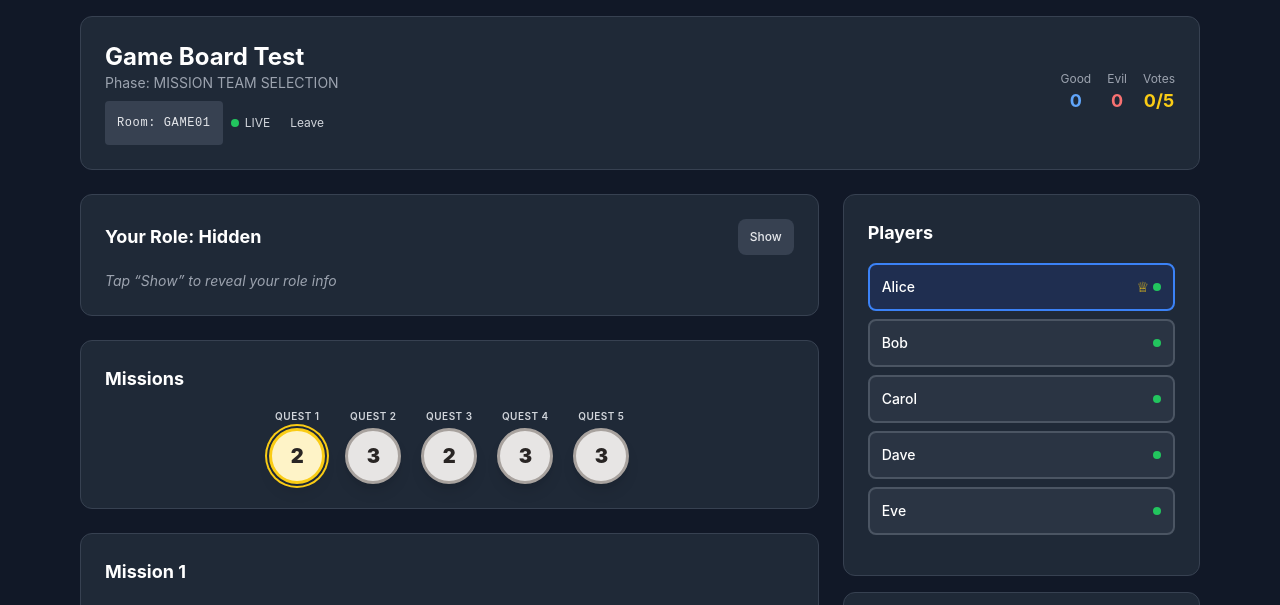
it: GameBoard › role info display › shows evil team styling for evil roles when revealed
The image size is (1280, 605).
Click the button "Show": (766, 237) [738,219,794,255]
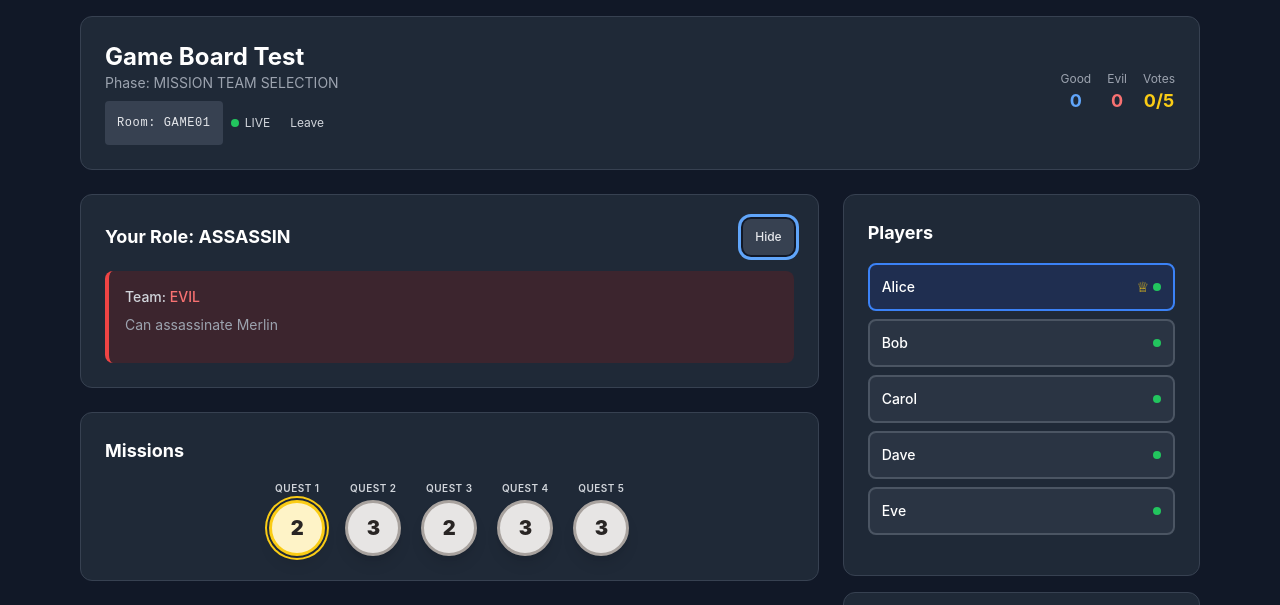
Expected: the text "EVIL" is shown, [170,288,200,305]
